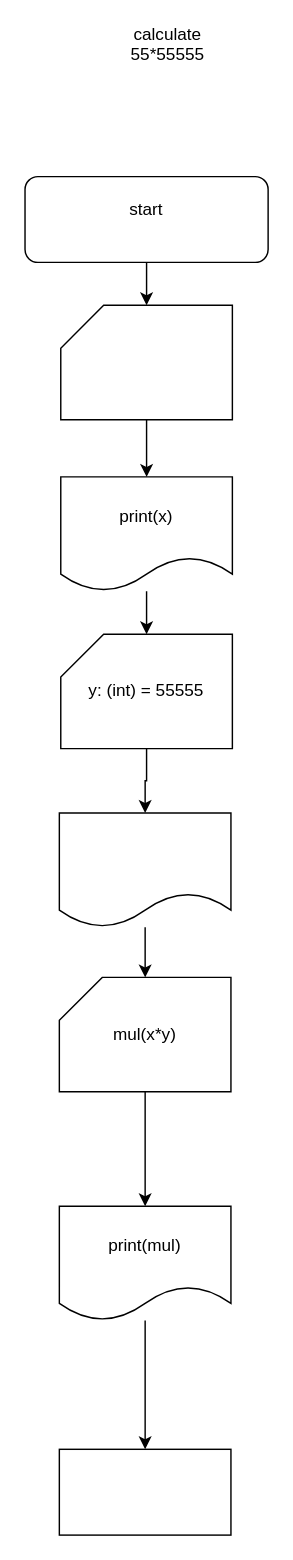
This 293x1560 diagram has some shape labels left out. The centre of each missing label's shape, as x and y in pixels:
"end" goes at (x=144, y=1491).
"print(y)" goes at (x=144, y=869).
"x: (int) = 55" goes at (x=145, y=362).
